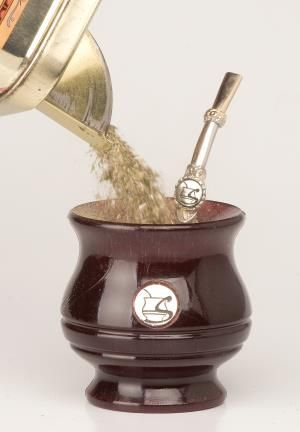madera: (62, 178, 259, 415)
mate: (64, 180, 261, 417)
